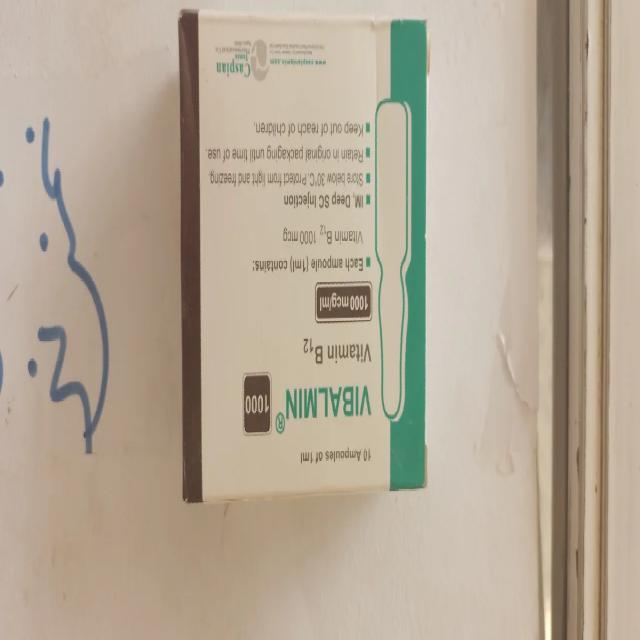drug-name: (274, 379, 376, 437)
